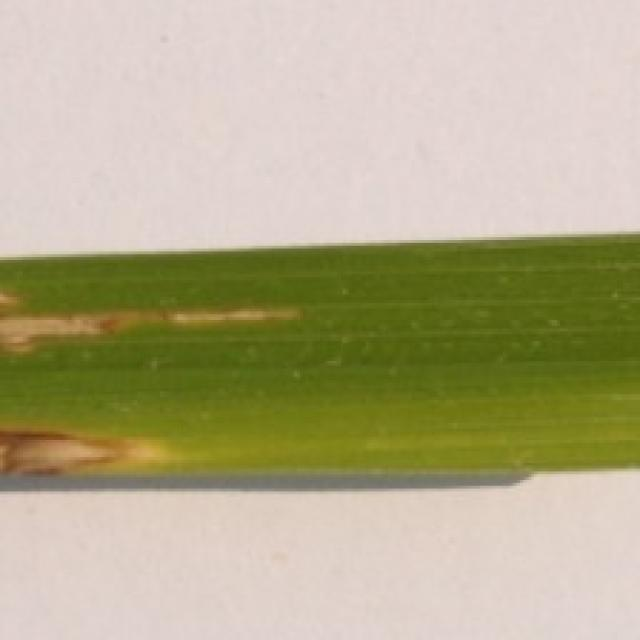Rice___Bacterial_Leaf_Blight: (0, 230, 637, 481)
